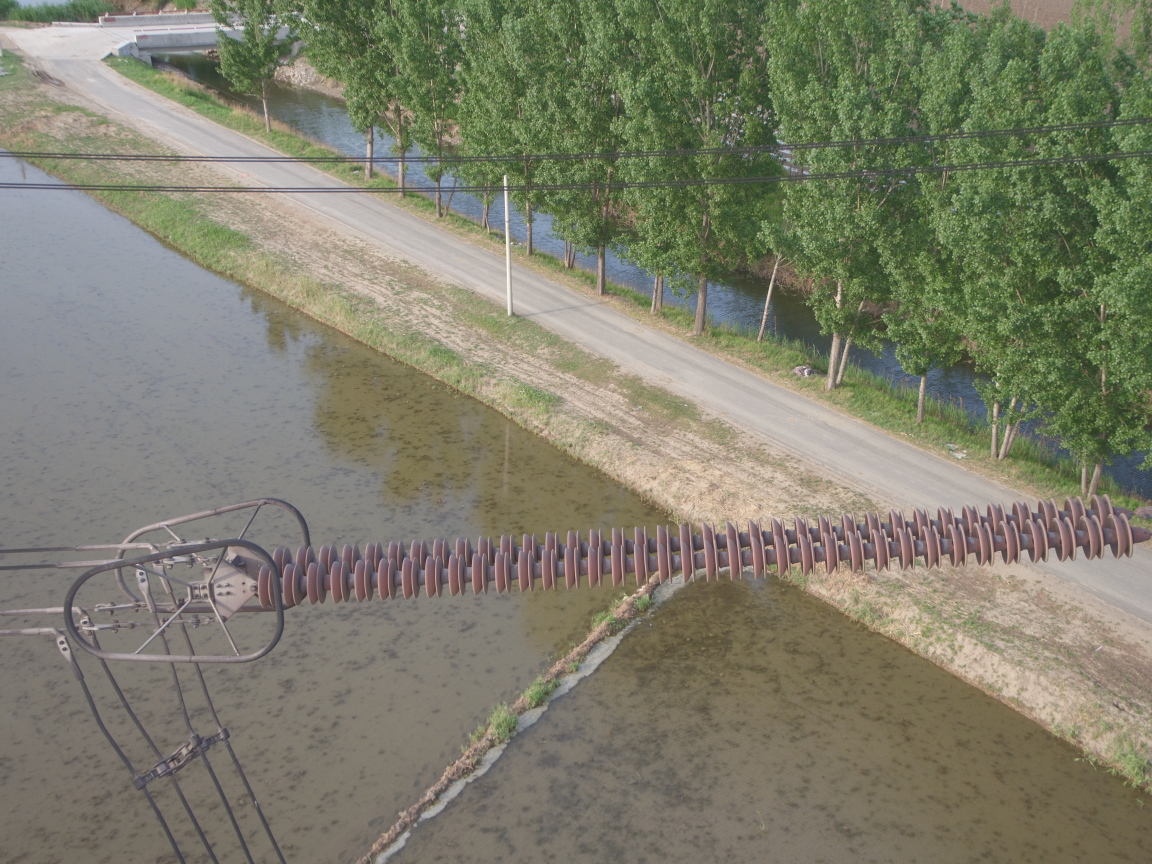insulator: (238, 489, 1152, 614)
